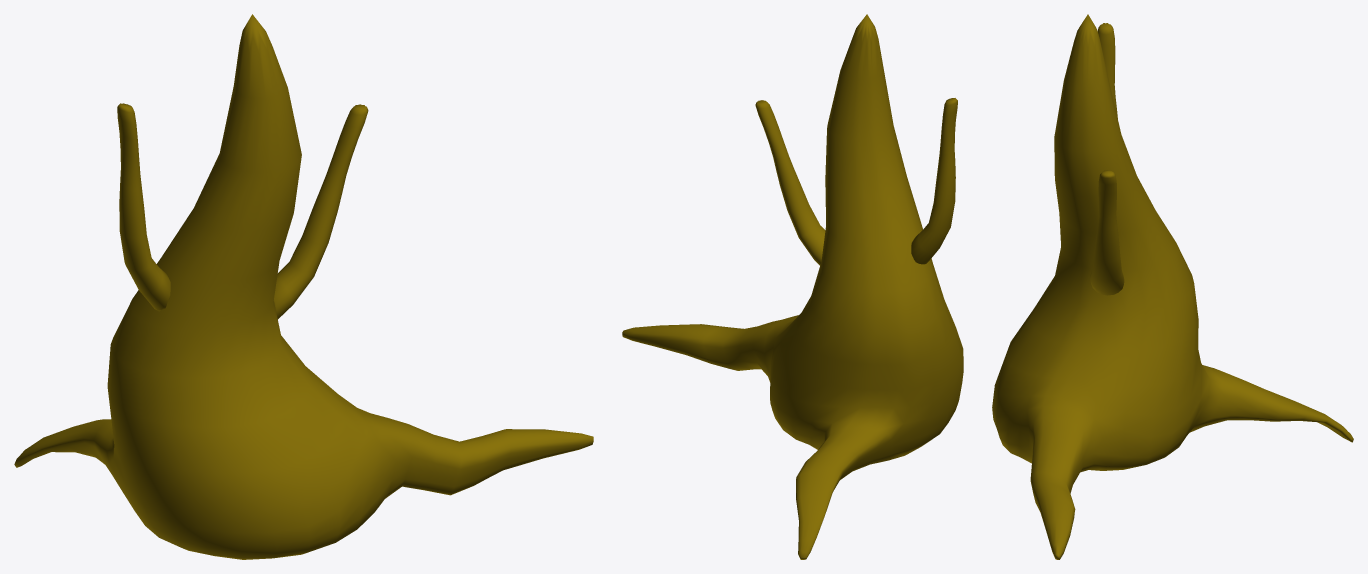
The model's file is Tree1Broken.fbx.
3 renders of one model, left to right at view 1: azimuth 30°, elevation 25°; view 2: azimuth 150°, elevation 25°; view 3: azimuth 270°, elevation 25°, orthographic. The views are drawn at different scales.
Visible parts, largest first — view 1: pCylinder4; view 2: pCylinder4; view 3: pCylinder4.
Boxes of the visible parts, box(x1,y1,x2,y2) form: pCylinder4: box(14, 14, 593, 559); pCylinder4: box(622, 14, 963, 559); pCylinder4: box(992, 14, 1353, 559).
Size of the model in its own units: 22.28 by 26.19 by 18.69.
